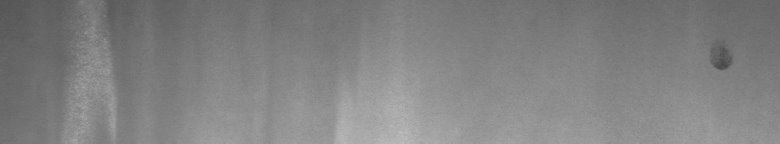fi: (710, 46, 733, 76)
